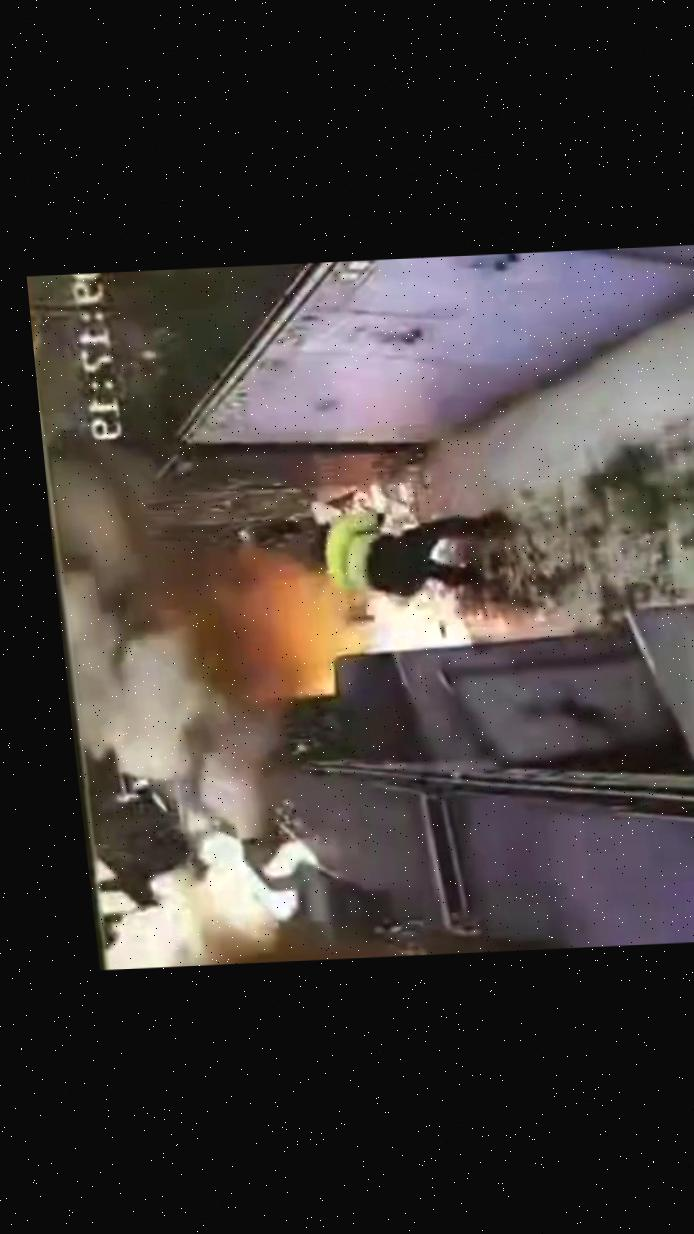fire: (75, 511, 481, 765)
